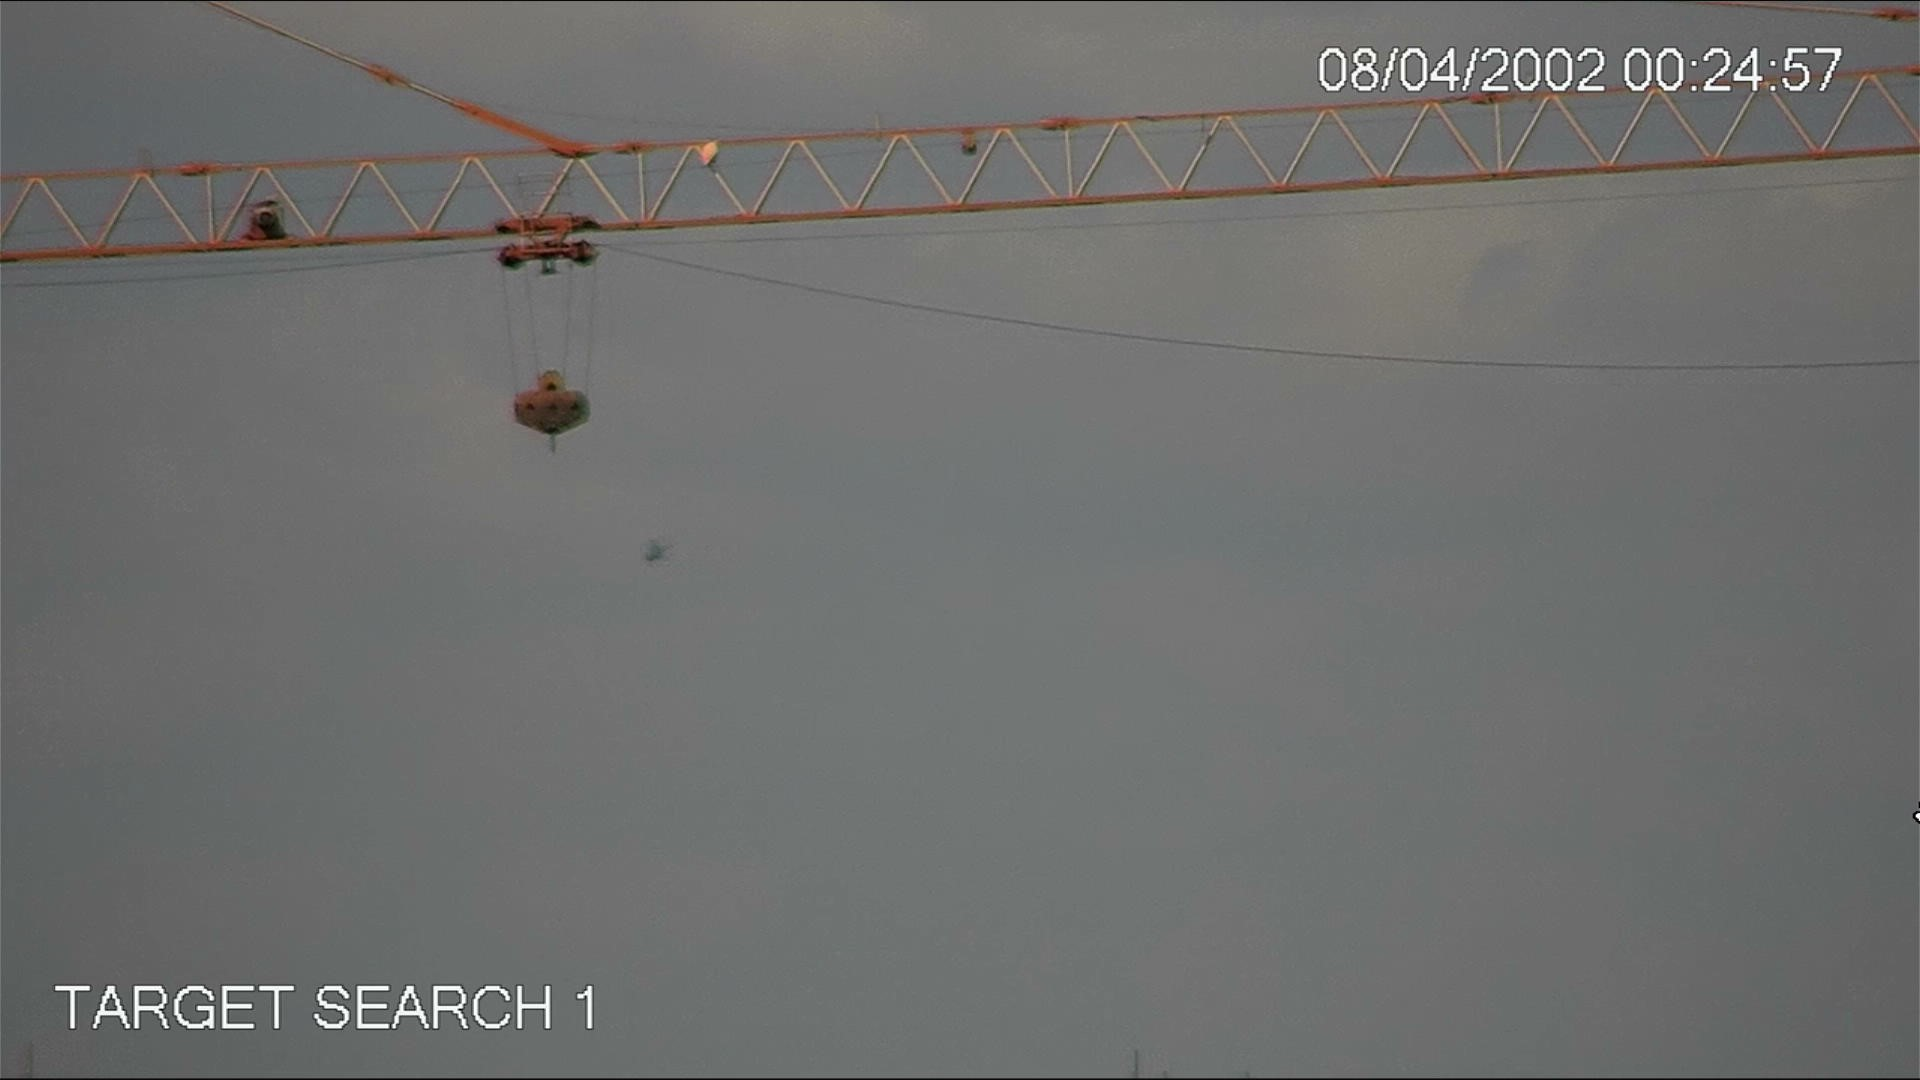SU_30: (637, 526, 687, 578)
